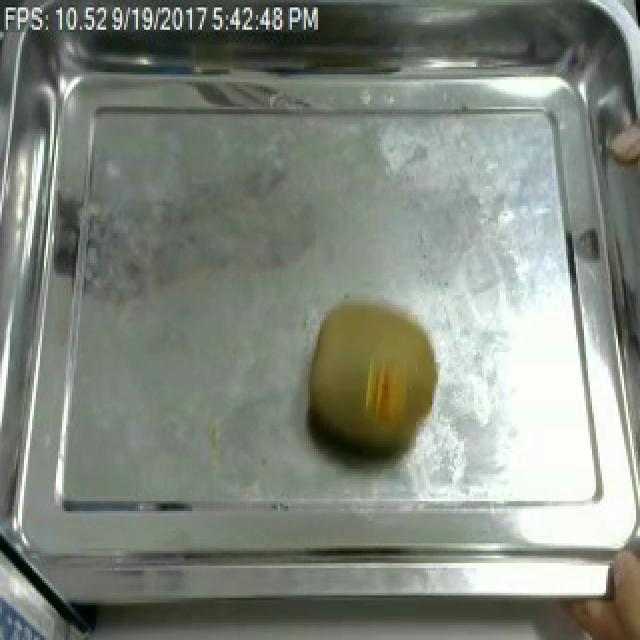Fruit: (298, 293, 452, 466), (602, 533, 640, 640)
